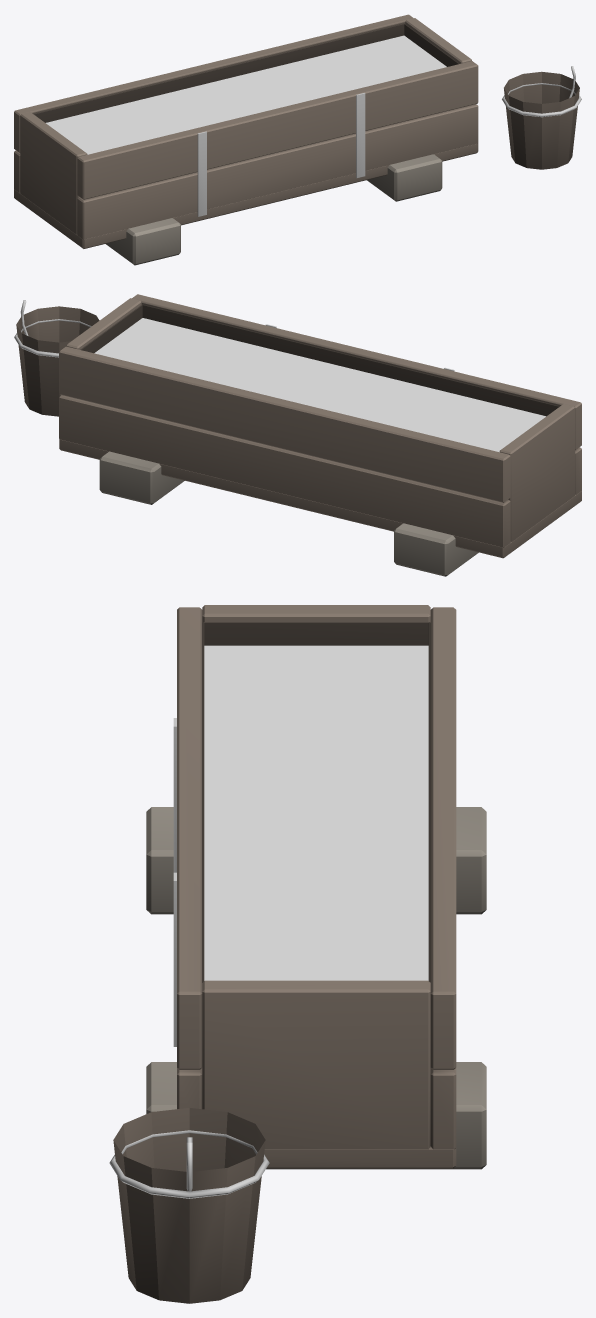
File: trough.glb
3 renders of one model, top to bottom at view 1: azimuth 30°, elevation 25°; view 2: azimuth 150°, elevation 25°; view 3: azimuth 270°, elevation 25°, orthographic. The views are drawn at different scales.
Visible parts, largest first — view 1: trough, trough_water; view 2: trough, trough_water; view 3: trough, trough_water.
Part boxes in pixels (left/top/right/bottom): trough: left=14, top=14, right=581, bottom=265; trough_water: left=46, top=35, right=446, bottom=154; trough: left=14, top=294, right=581, bottom=576; trough_water: left=94, top=318, right=545, bottom=452; trough: left=109, top=605, right=486, bottom=1303; trough_water: left=204, top=645, right=428, bottom=980.
Size of the model in its own units: 2.26 by 0.485 by 0.743.
